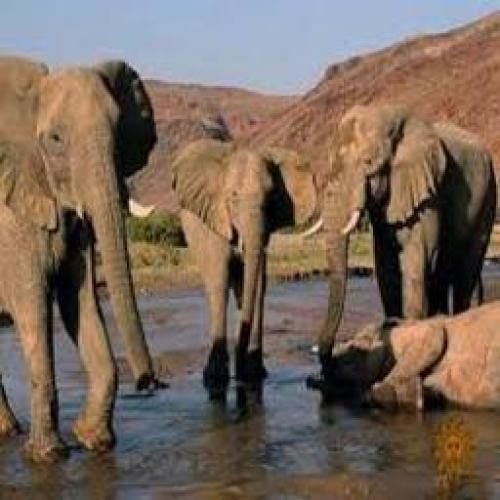african_elephant-endangered: (1, 54, 151, 462), (330, 106, 496, 327), (175, 146, 316, 400), (313, 320, 500, 415)
